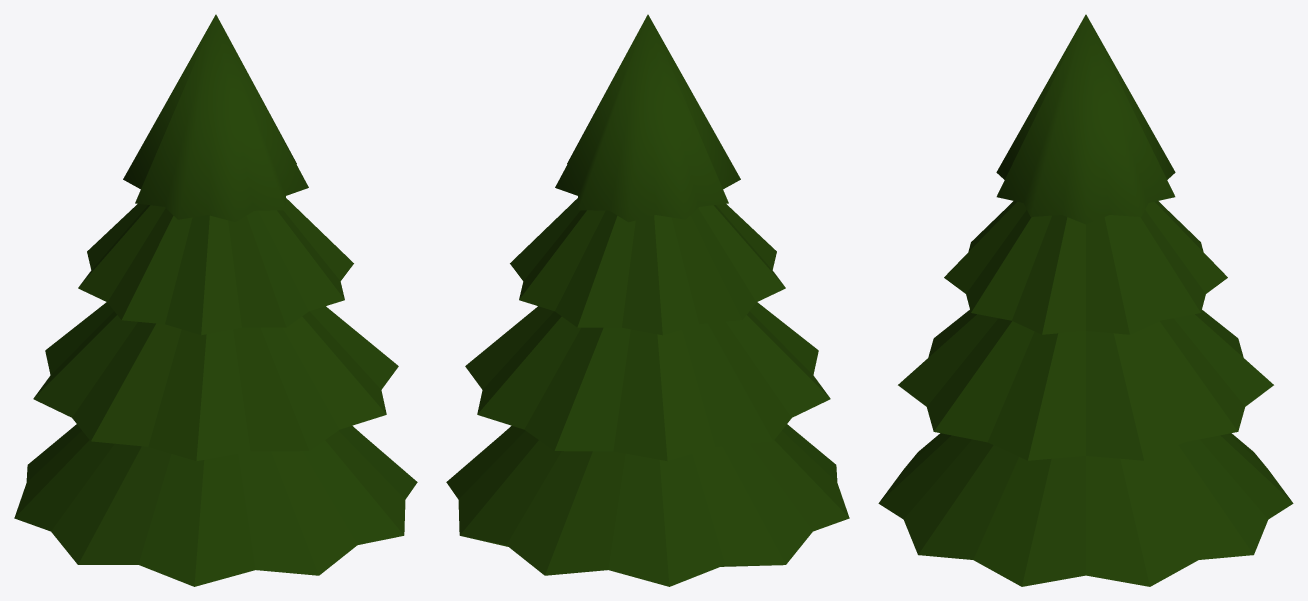
File: tree_2.fbx
The picture shows the model from 3 angles, left to right: view 1: azimuth 30°, elevation 25°; view 2: azimuth 150°, elevation 25°; view 3: azimuth 270°, elevation 25°; orthographic projection.
Visible parts, largest first — view 1: pCylinder2; view 2: pCylinder2; view 3: pCylinder2.
Boxes of the visible parts, bbox=[...] form: pCylinder2: bbox=[14, 14, 417, 586]; pCylinder2: bbox=[446, 14, 849, 586]; pCylinder2: bbox=[878, 14, 1293, 586].
Bounding box in the file's own units: 6.4 × 9.46 × 6.73.
